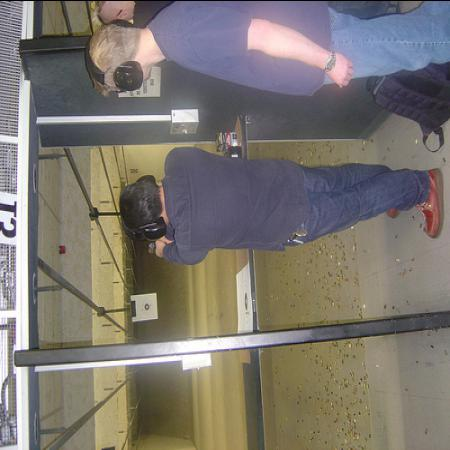Pistol: (145, 238, 159, 252)
